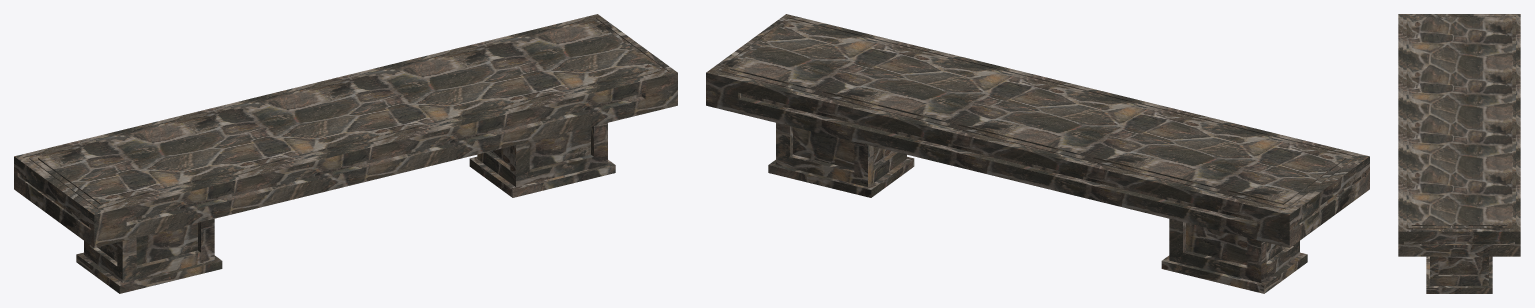
File: banca.fbx
The picture shows the model from 3 angles, left to right: view 1: azimuth 30°, elevation 25°; view 2: azimuth 150°, elevation 25°; view 3: azimuth 270°, elevation 25°; orthographic projection. The views are drawn at different scales.
Visible parts, largest first — view 1: Bench; view 2: Bench; view 3: Bench.
Boxes of the visible parts, x1,y1,x2,y2 form: Bench: (14, 14, 677, 293); Bench: (706, 14, 1369, 293); Bench: (1398, 14, 1520, 293).
Bounding box in the file's own units: 146 × 25 × 34.75.
